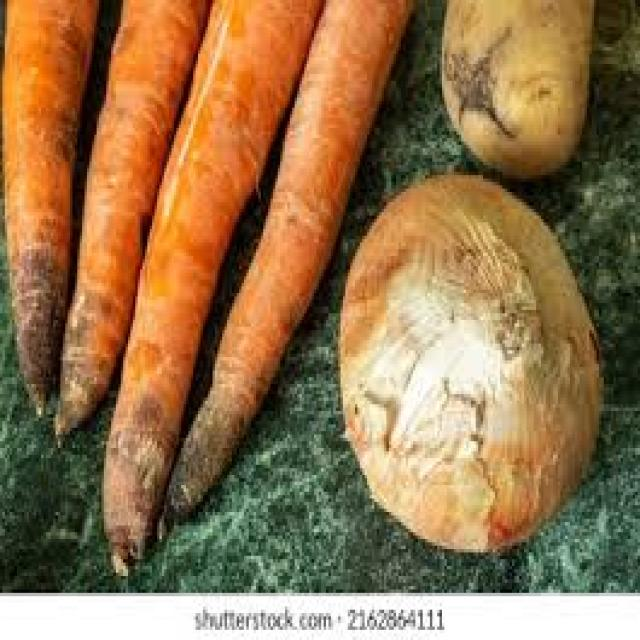Stale_Carrot: (9, 242, 248, 529)
